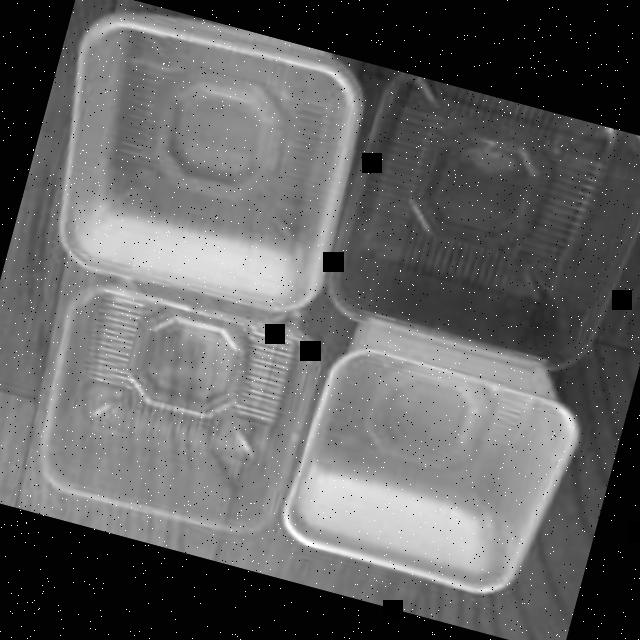plastic_box: (19, 0, 373, 331), (305, 70, 640, 394), (266, 307, 588, 610), (14, 262, 328, 554)
